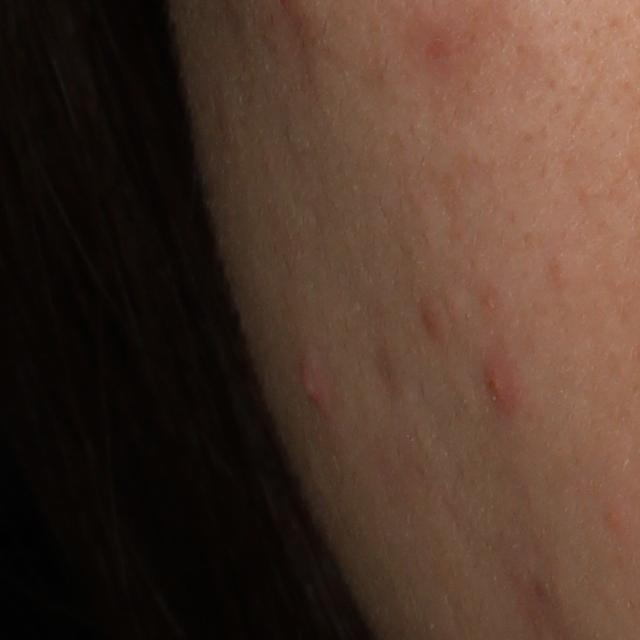papule: (476, 351, 521, 420), (417, 288, 461, 350), (296, 360, 336, 413), (602, 500, 627, 527)
